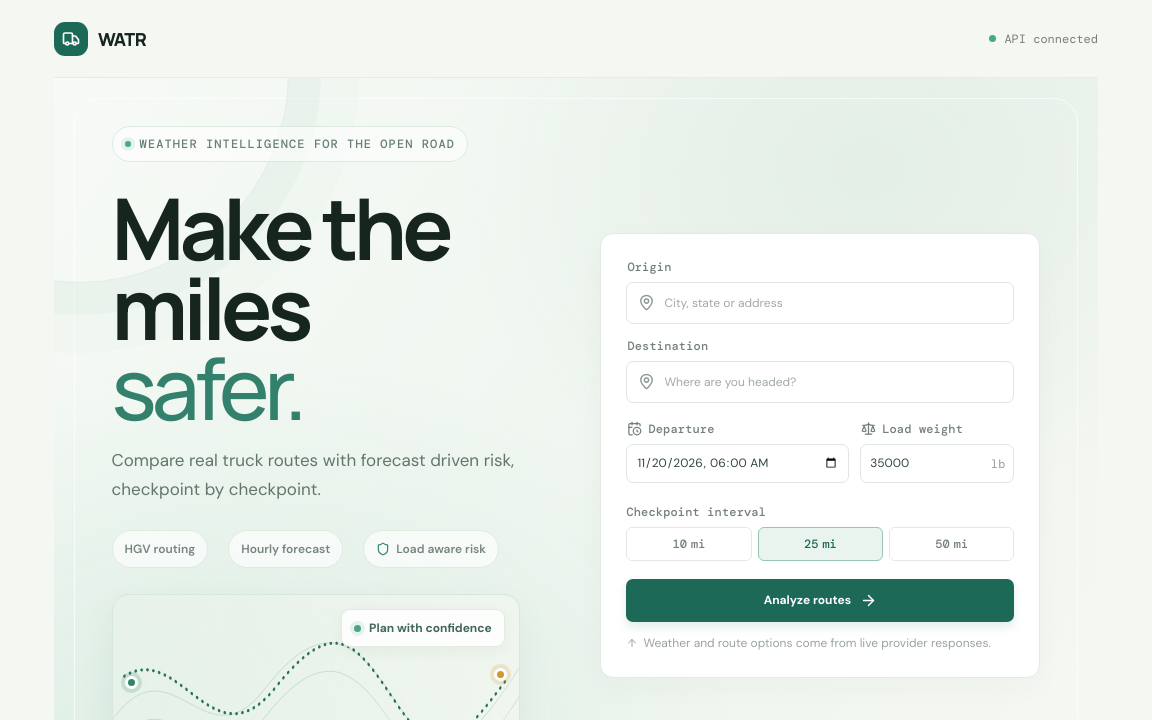
Test: trip planning and visualization controls › validates that locations must be selected from provider suggestions
What coordinates should you click on to do the following:
click the button "Analyze routes"
I would click on:
 (820, 600)
Its box is [626,579,1014,622].
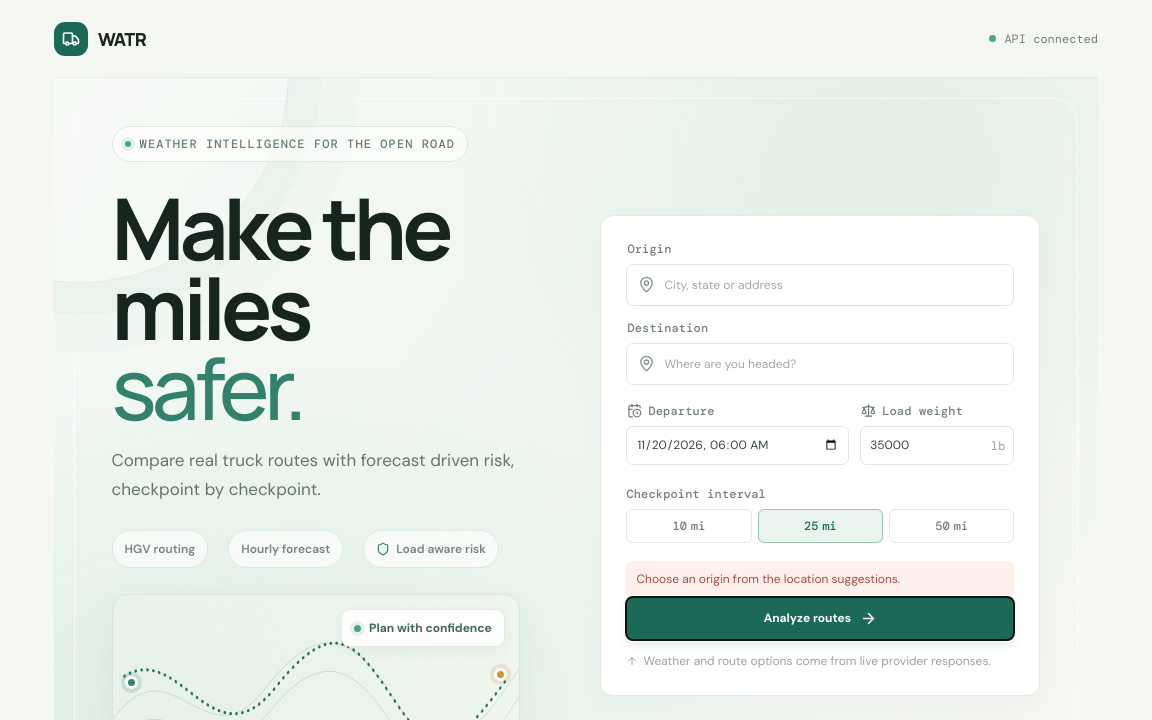
Now the message reads "Choose an origin from the location suggestions.", box [636,571,900,587]
